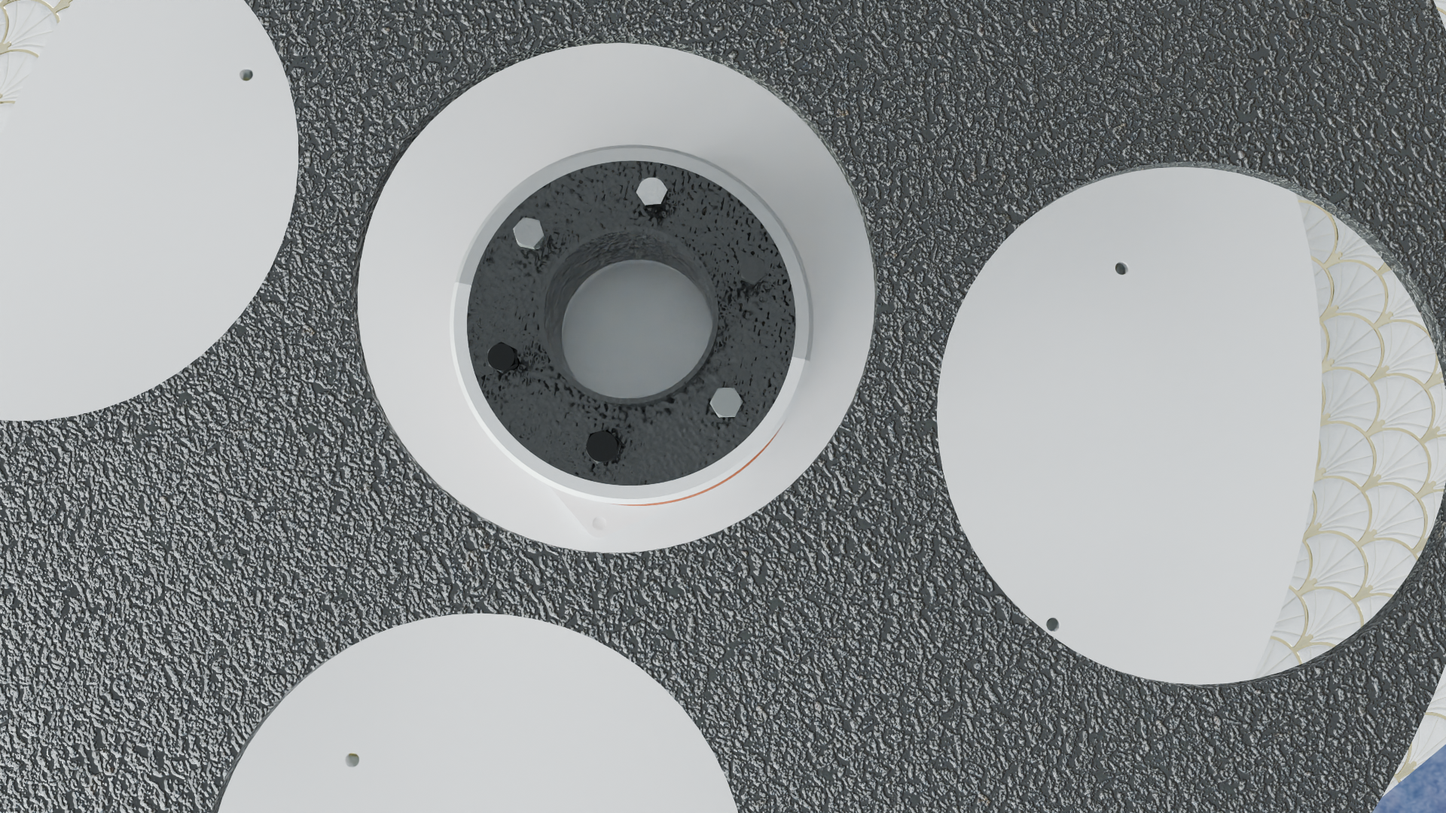bolt: (585, 430, 620, 464), (710, 388, 743, 417), (513, 217, 544, 247), (636, 177, 667, 206), (487, 342, 516, 373), (740, 254, 767, 283)
